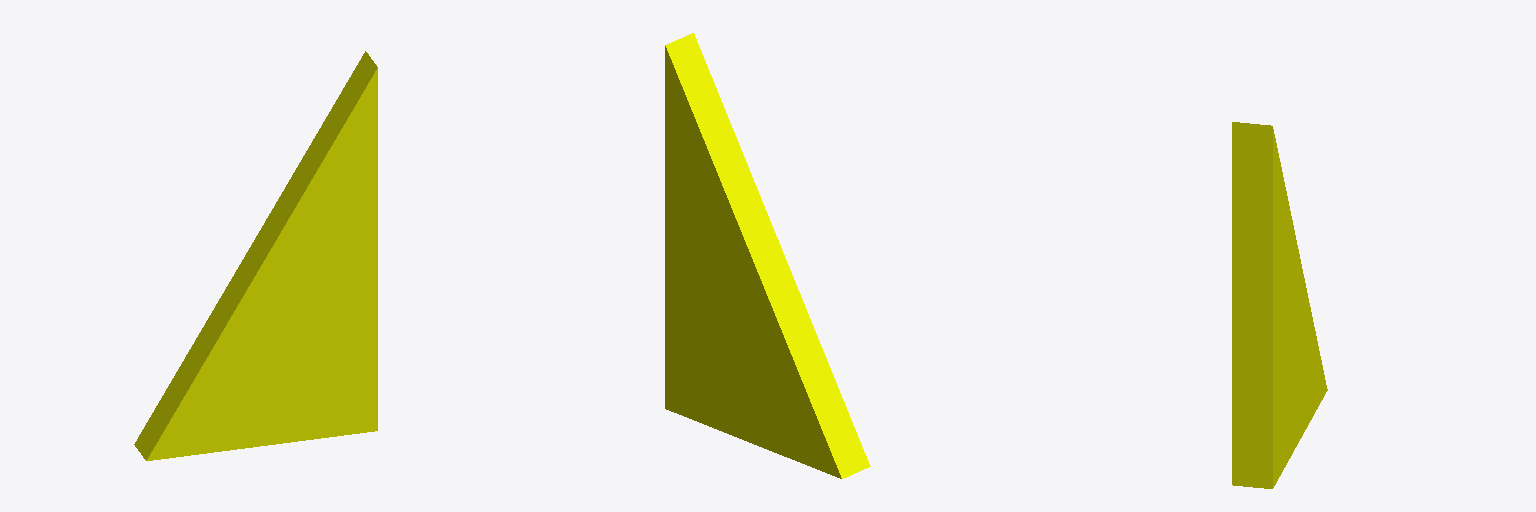
3 renders of one model, left to right at view 1: azimuth 30°, elevation 25°; view 2: azimuth 150°, elevation 25°; view 3: azimuth 270°, elevation 25°, orthographic.
Visible parts, largest first — view 1: Casa_gravity_falls:pPrism4 group4; view 2: Casa_gravity_falls:pPrism4 group4; view 3: Casa_gravity_falls:pPrism4 group4.
Boxes of the visible parts, <box> form: Casa_gravity_falls:pPrism4 group4: <box>134,51,377,460</box>; Casa_gravity_falls:pPrism4 group4: <box>665,33,870,478</box>; Casa_gravity_falls:pPrism4 group4: <box>1232,122,1327,488</box>.
Bounding box in the file's own units: 0.925 × 1.52 × 0.3595.
1 materials, 1 textured.